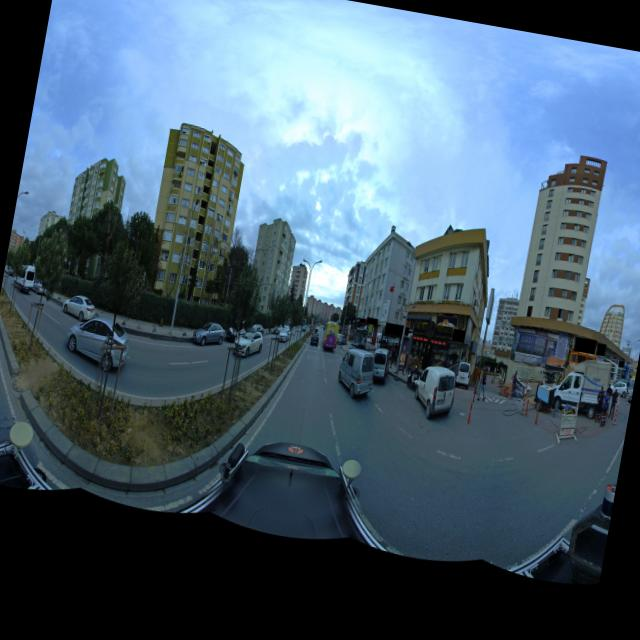SignStore: (575, 336, 596, 354), (384, 324, 403, 335), (451, 328, 465, 341), (596, 343, 606, 356), (366, 318, 378, 325), (404, 327, 409, 336), (618, 360, 623, 368), (359, 318, 366, 322)
